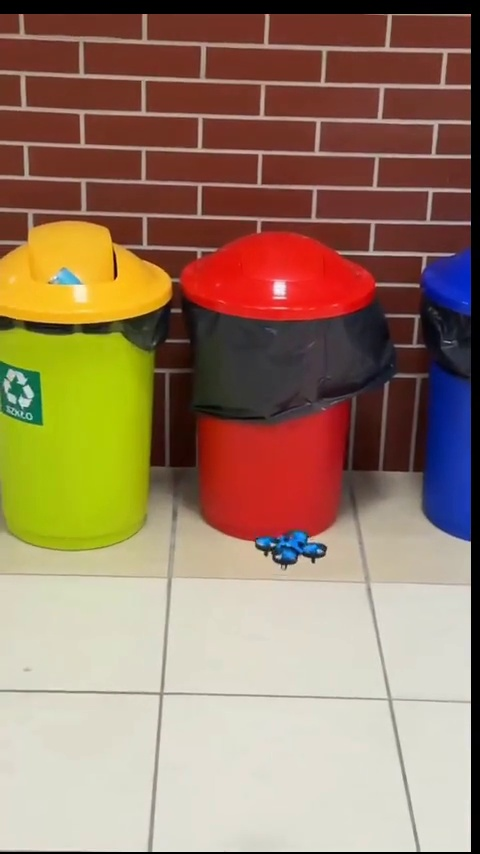drone: (254, 529, 323, 565)
